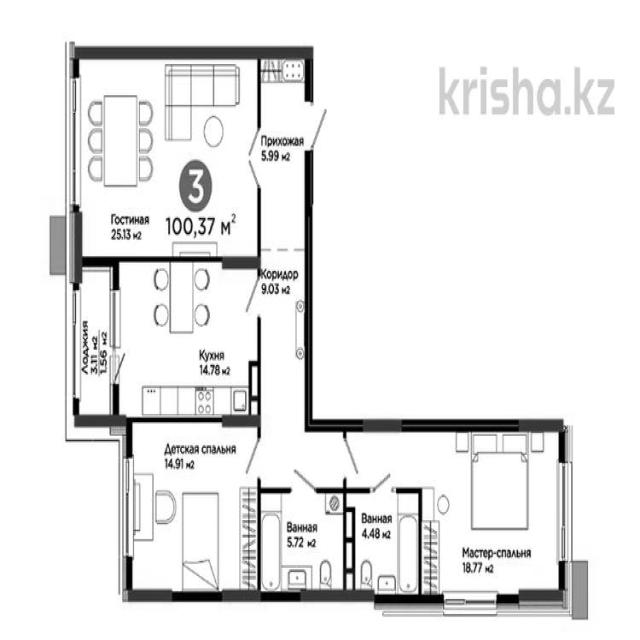balcony: (71, 260, 117, 424)
bathroom: (258, 488, 346, 593), (344, 488, 422, 599)
hallway: (257, 51, 347, 490)
kitchen: (116, 260, 260, 422)
living_room: (72, 46, 261, 264), (345, 419, 565, 597), (125, 420, 260, 597)
